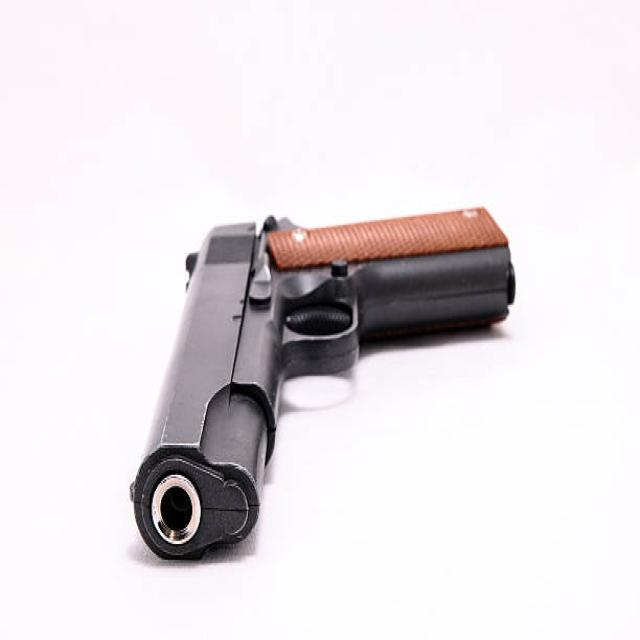pistol: (122, 205, 514, 580)
